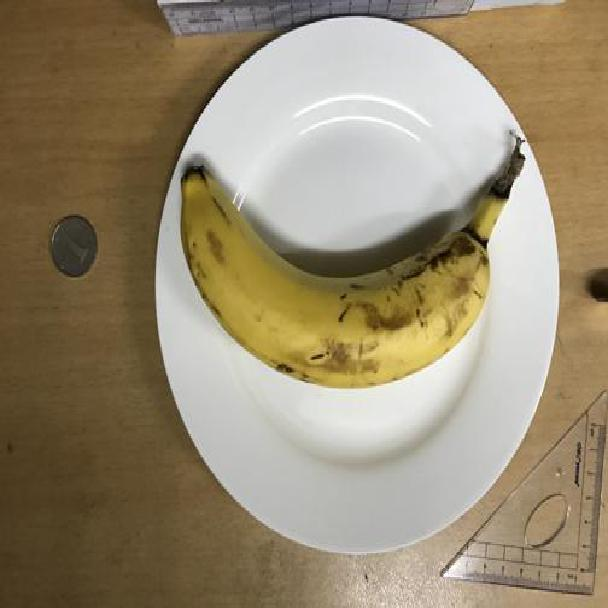banana: (165, 163, 516, 387)
